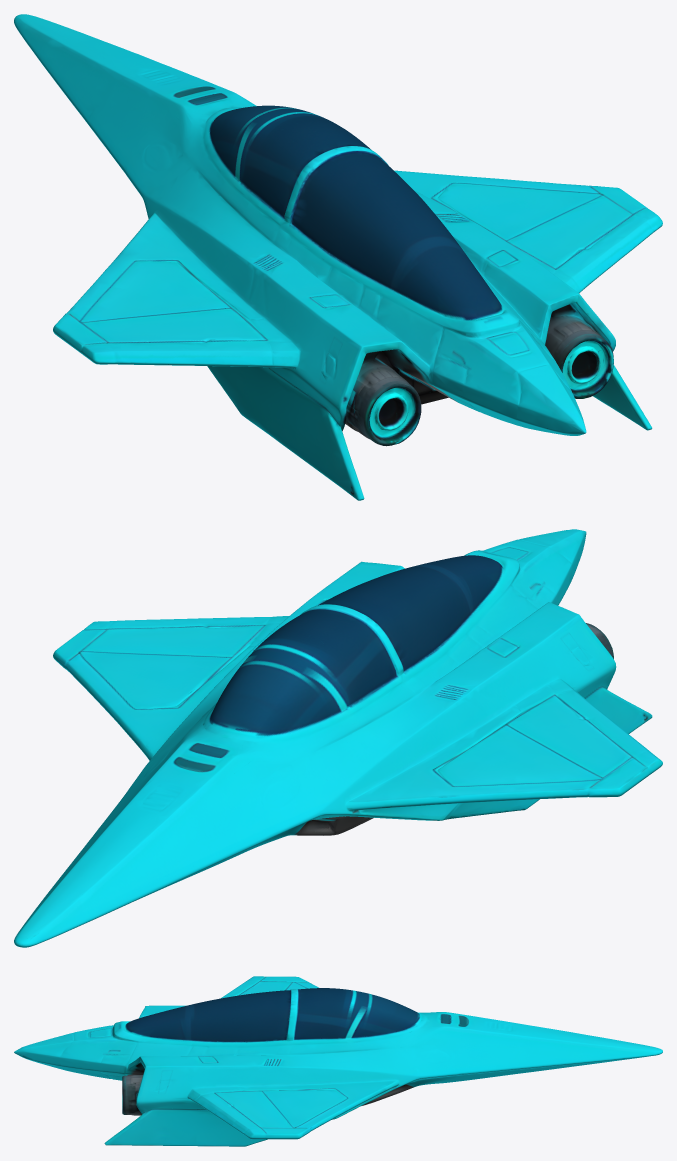
File: 玩家飞机.glb
3 views of the same model, one above another, from view 1: azimuth 30°, elevation 25°; view 2: azimuth 150°, elevation 25°; view 3: azimuth 270°, elevation 25° (orthographic). The views are drawn at different scales.
Visible parts, largest first — view 1: node_0; view 2: node_0; view 3: node_0.
Boxes of the visible parts, left/top/right/bottom form: node_0: left=14, top=14, right=662, bottom=500; node_0: left=14, top=529, right=662, bottom=947; node_0: left=14, top=976, right=662, bottom=1146.
Bounding box in the file's own units: 0.6954 × 0.235 × 1.2.
1 material, 1 textured.
